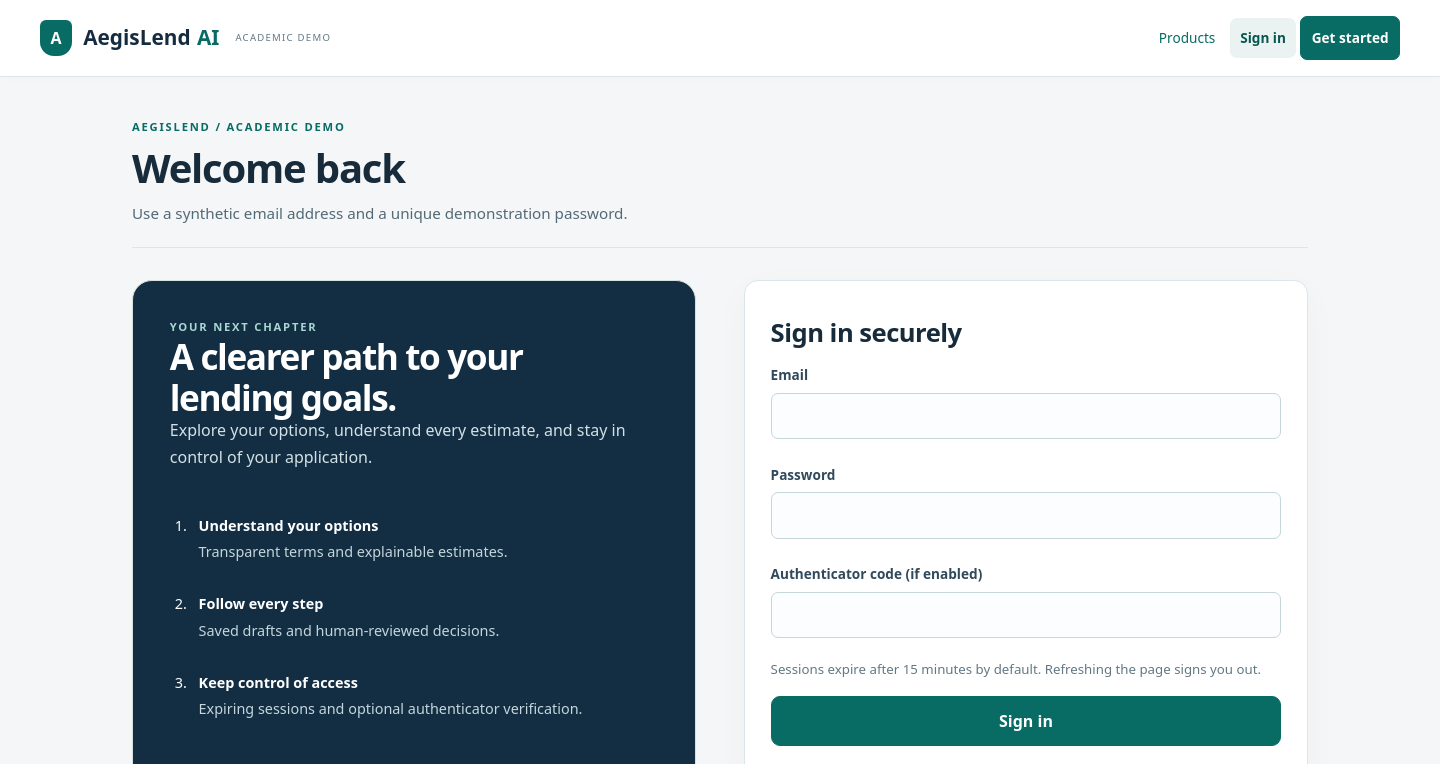
Test: session challenge shows server deadline and keeps form usable
Type "synthetic@example.com" into the field labelled "Email" at coordinates (1026, 416), box [771,393,1281,439]
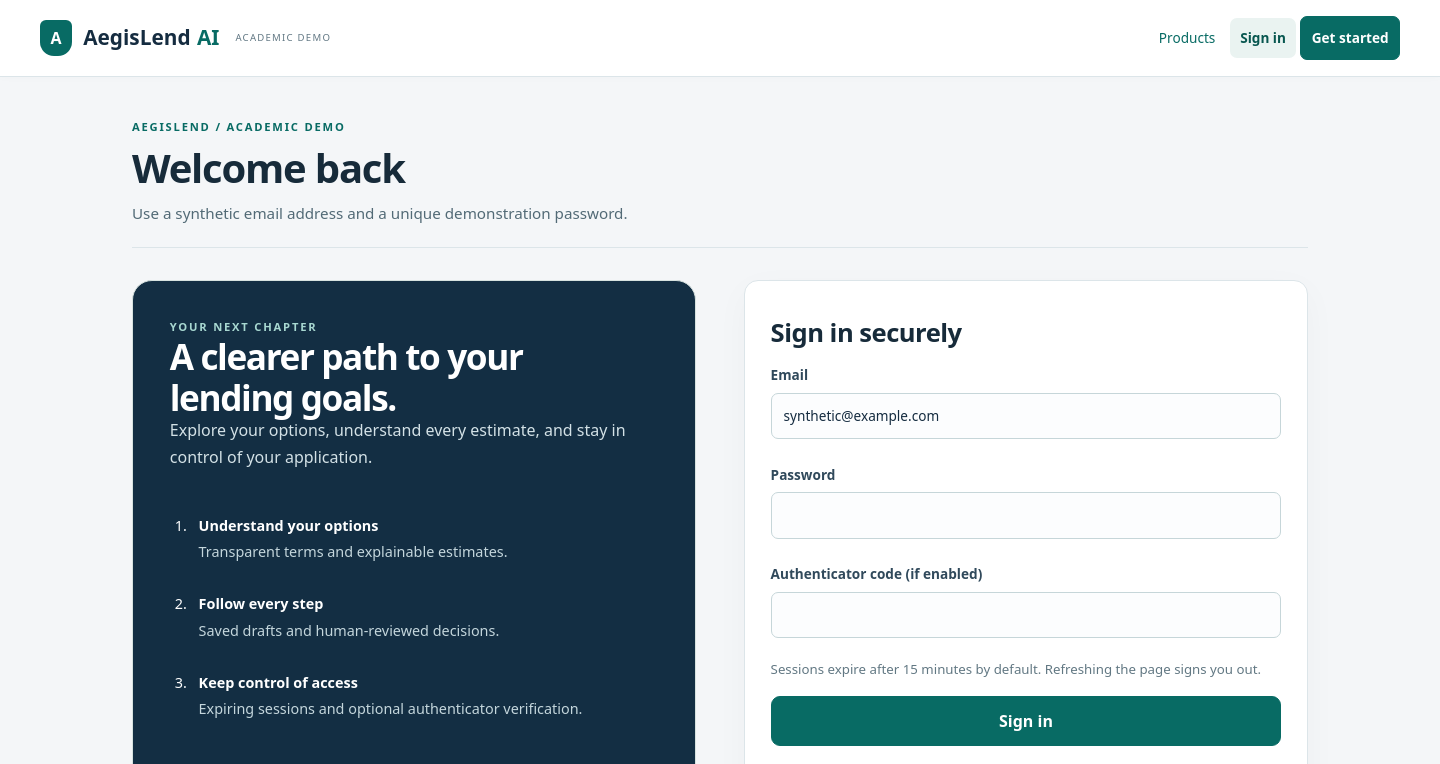
Type "synthetic-test-input-only" into the password field labelled "Password" at coordinates (1026, 516), box [771,492,1281,539]
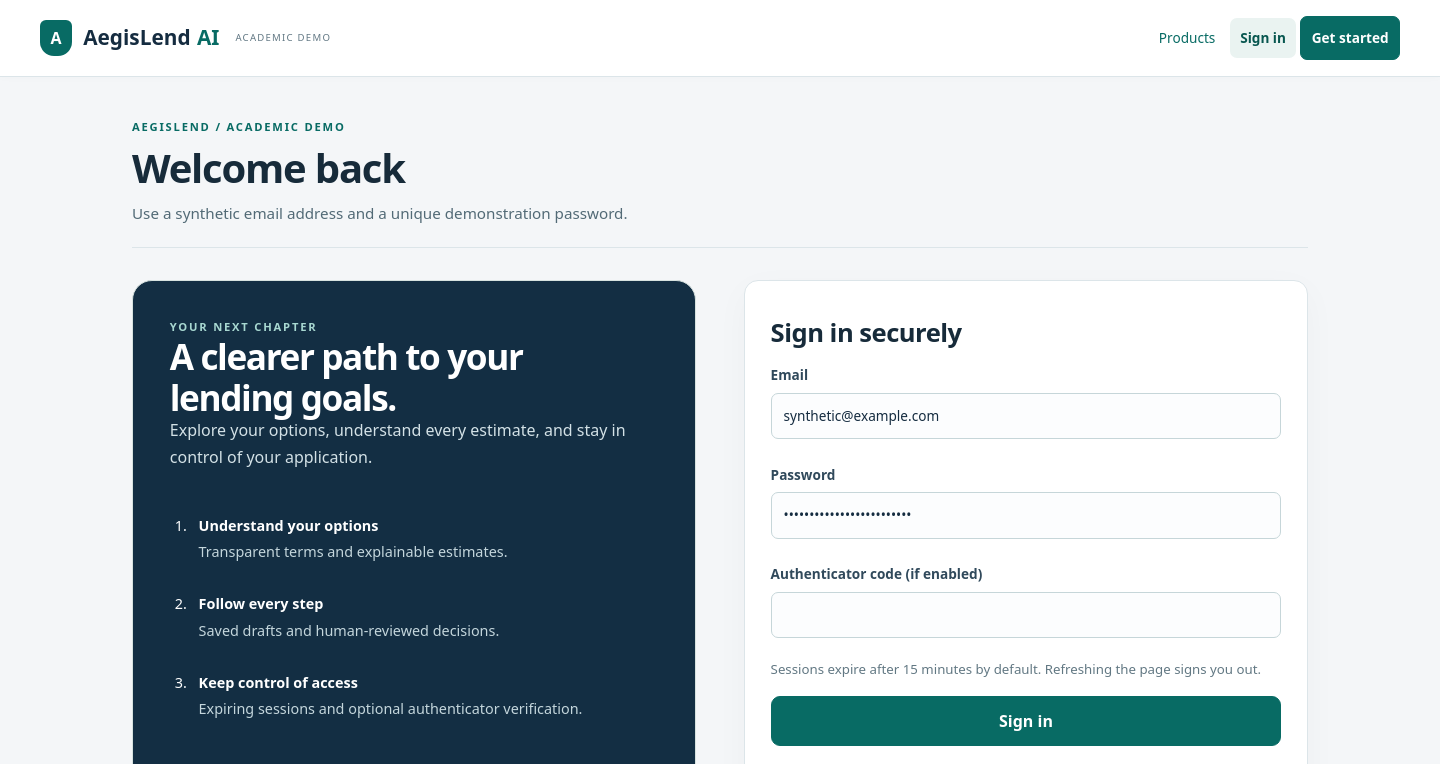
Click the button "Sign in" at coordinates (1026, 721), box [771,696,1281,746]
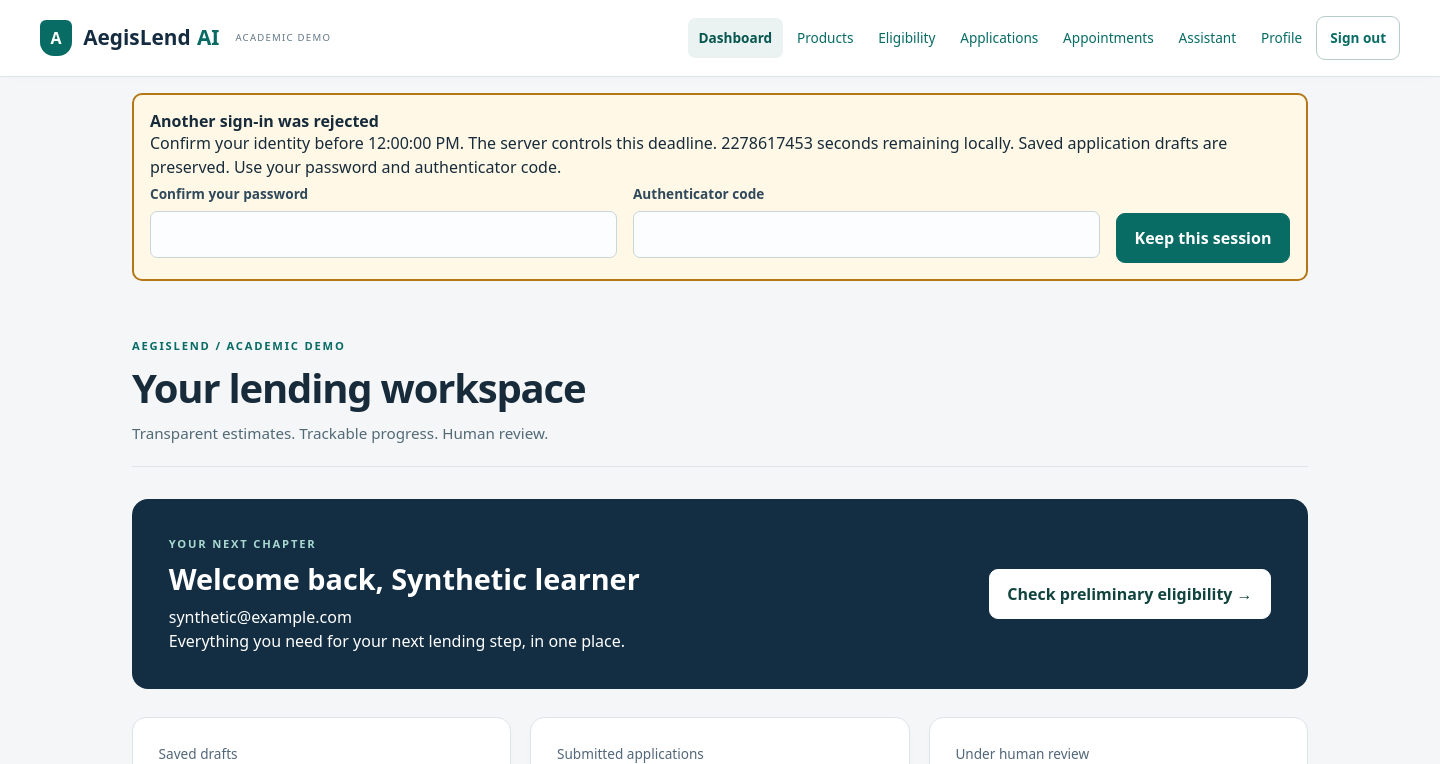
Result: the heading "Your lending workspace" is shown at [132,360,585,415]
Result: the heading "Another sign-in was rejected" is shown at [150,110,379,132]
